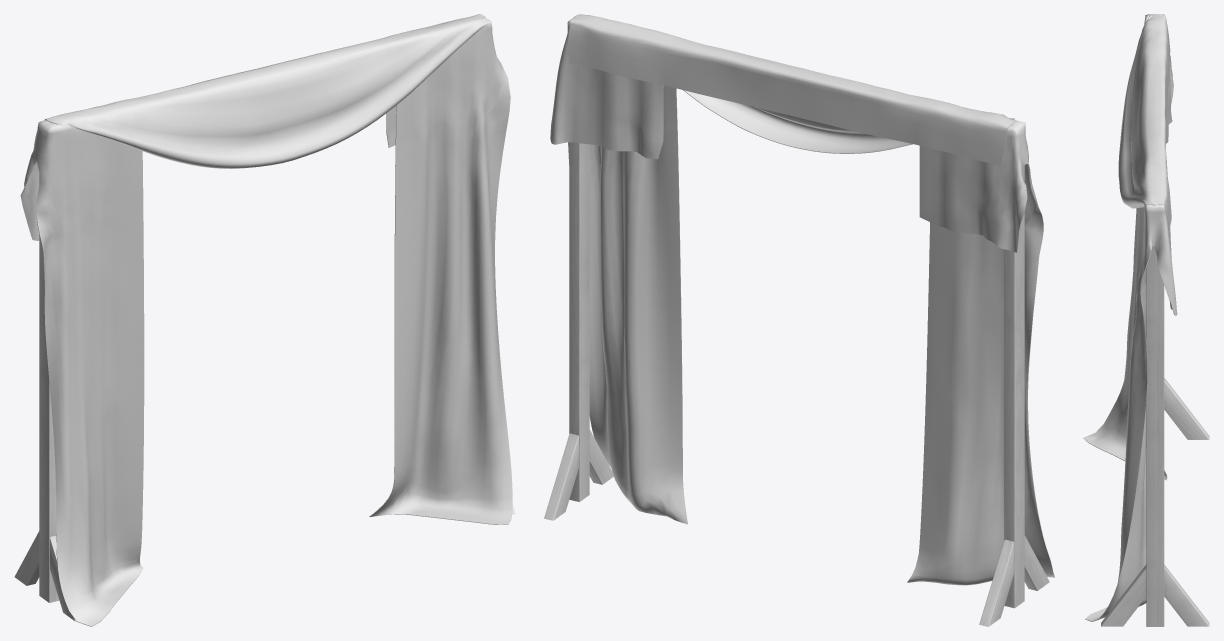
Rendered from EventArch01Cloth01_1.FBX.
3 views of the same model, side by side, from view 1: azimuth 30°, elevation 25°; view 2: azimuth 150°, elevation 25°; view 3: azimuth 270°, elevation 25° (orthographic). The views are drawn at different scales.
Parts seen in each view (by area): view 1: EventArch01Cloth01_1; view 2: EventArch01Cloth01_1; view 3: EventArch01Cloth01_1.
Part boxes in pixels (x1,y1,x2,y2): EventArch01Cloth01_1: [14, 14, 515, 626]; EventArch01Cloth01_1: [544, 14, 1054, 626]; EventArch01Cloth01_1: [1083, 14, 1209, 626].
Size of what is drawn, in the model's own units: 2.68 by 2.58 by 0.6969.
